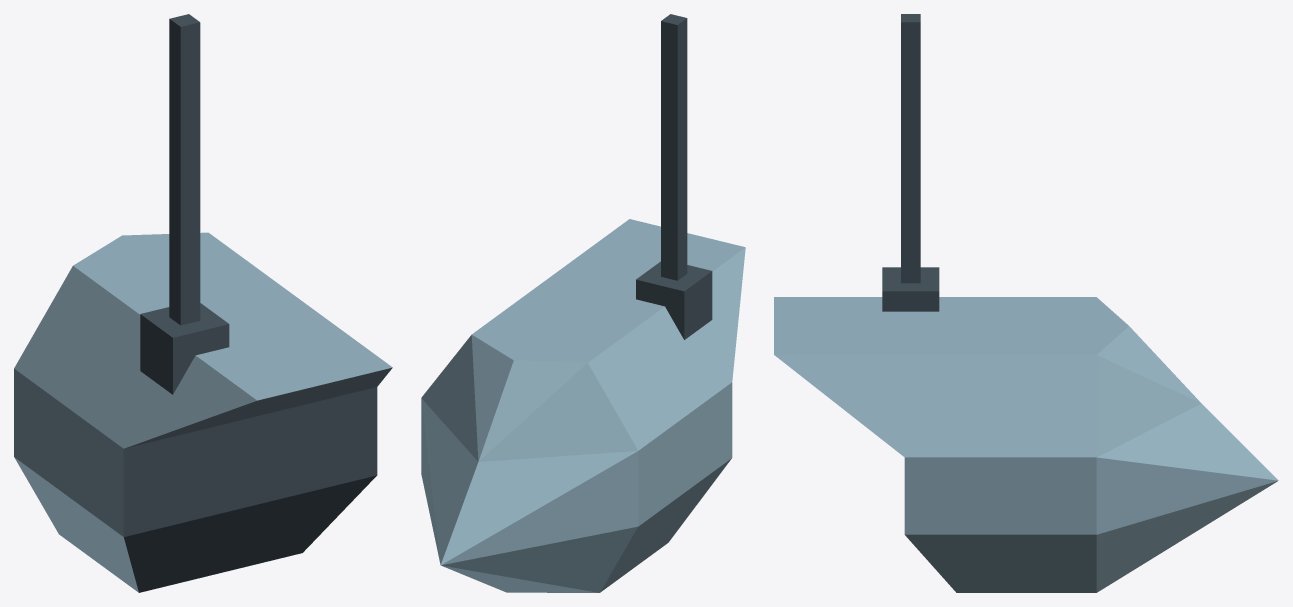
The model's file is Bird Head.fbx.
3 views of the same model, side by side, from view 1: azimuth 30°, elevation 25°; view 2: azimuth 150°, elevation 25°; view 3: azimuth 270°, elevation 25° (orthographic). The views are drawn at different scales.
Parts seen in each view (by area): view 1: Bird Body; view 2: Bird Body; view 3: Bird Body.
Part boxes in pixels (<box>): Bird Body: <box>14,14,392,592</box>; Bird Body: <box>421,14,745,592</box>; Bird Body: <box>774,14,1278,592</box>.
Bounding box in the file's own units: 200 × 394 × 442.
